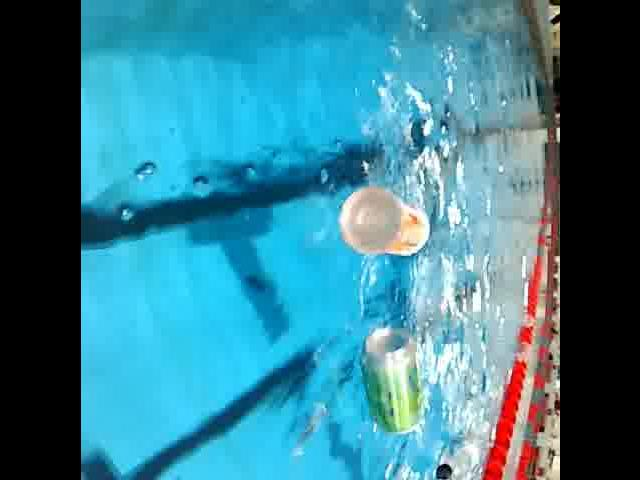Bottle: (331, 180, 436, 266), (427, 417, 497, 480)
Can: (354, 319, 428, 445)
